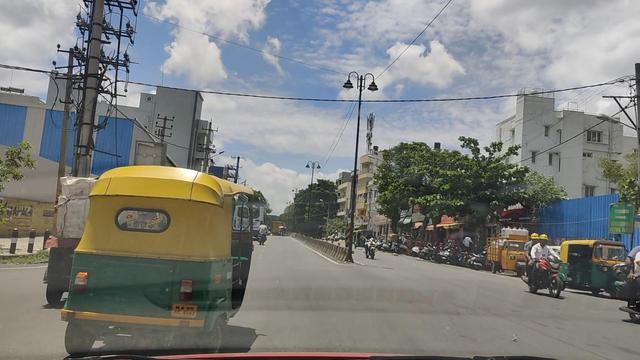LMV: (92, 174, 249, 360)
